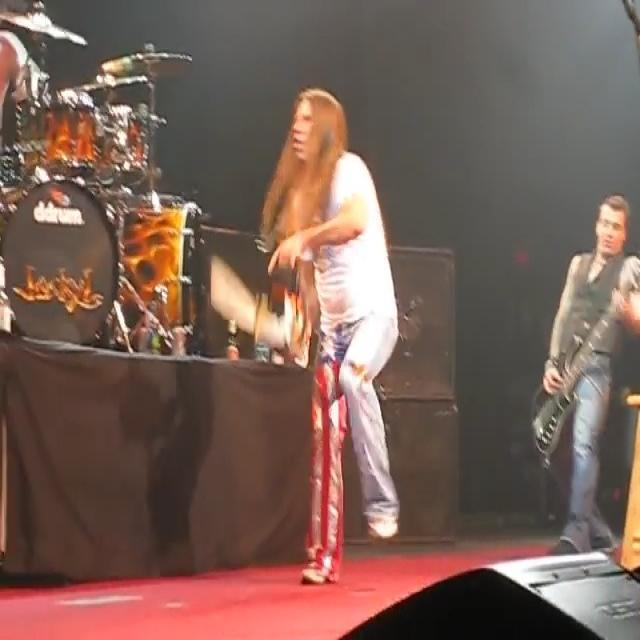Chainsaw: (199, 242, 321, 376)
